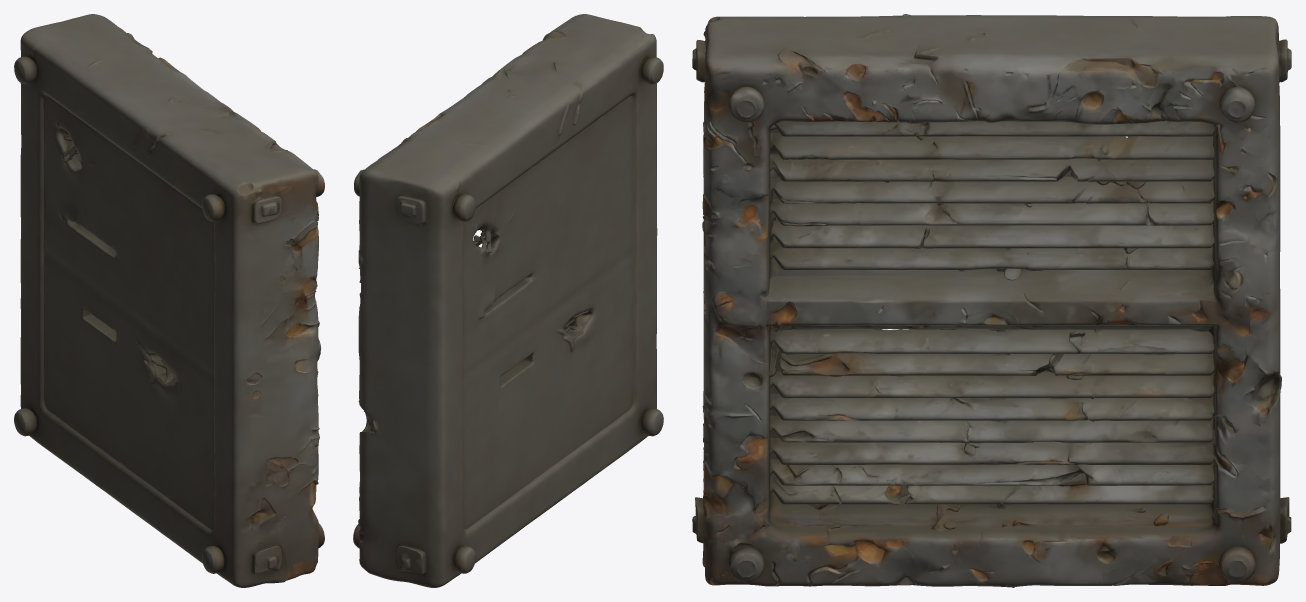
Rendered from decor_vent.glb.
3 renders of one model, left to right at view 1: azimuth 30°, elevation 25°; view 2: azimuth 150°, elevation 25°; view 3: azimuth 270°, elevation 25°, orthographic. The views are drawn at different scales.
Parts seen in each view (by area): view 1: tripo_node_e83acf59-5c95-47b1-b1ac-4f28a4882fd3; view 2: tripo_node_e83acf59-5c95-47b1-b1ac-4f28a4882fd3; view 3: tripo_node_e83acf59-5c95-47b1-b1ac-4f28a4882fd3.
Part boxes in pixels (x1,y1,x2,y2): tripo_node_e83acf59-5c95-47b1-b1ac-4f28a4882fd3: (14,14,324,587); tripo_node_e83acf59-5c95-47b1-b1ac-4f28a4882fd3: (353,14,663,587); tripo_node_e83acf59-5c95-47b1-b1ac-4f28a4882fd3: (692,14,1291,587).
Bounding box in the file's own units: 0.2846 × 0.9614 × 0.9801.
Materials: 1 (1 with a texture image).
